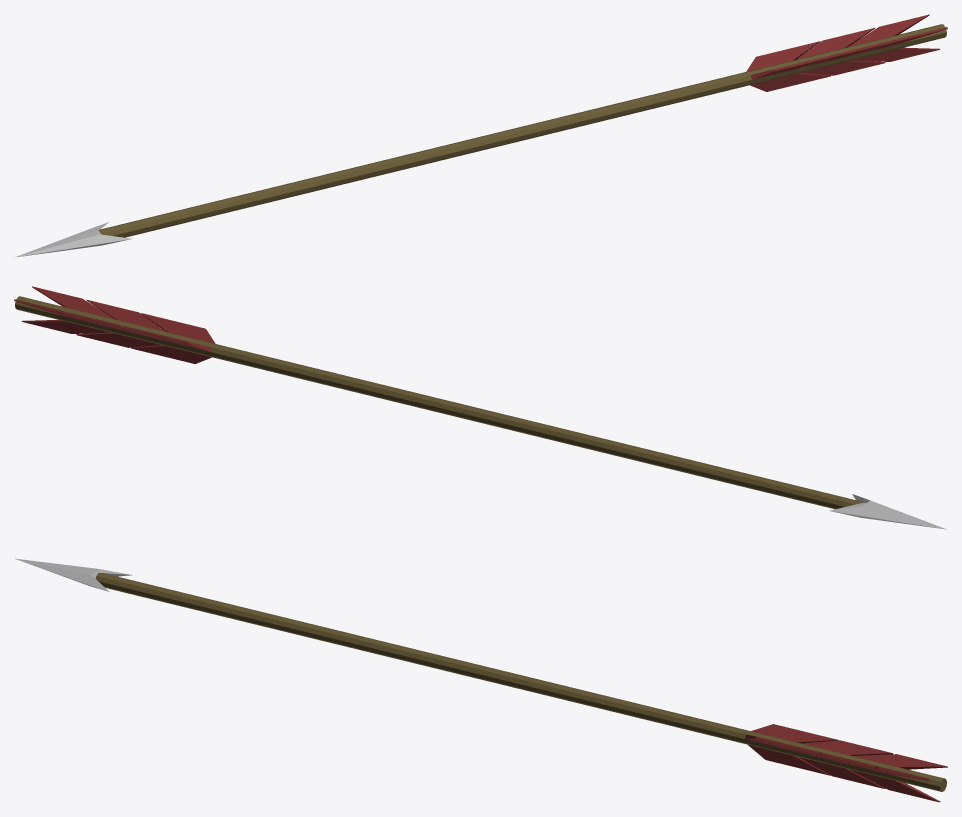
File: Arrow.fbx
3 renders of one model, top to bottom at view 1: azimuth 30°, elevation 25°; view 2: azimuth 150°, elevation 25°; view 3: azimuth 330°, elevation 25°, orthographic.
Visible parts, largest first — view 1: Arrow; view 2: Arrow; view 3: Arrow.
Boxes of the visible parts, box(x1,y1,x2,y2) form: Arrow: box(14, 14, 947, 257); Arrow: box(14, 286, 946, 529); Arrow: box(15, 558, 947, 802).
Bounding box in the file's own units: 27.03 × 0.8067 × 1.18.
